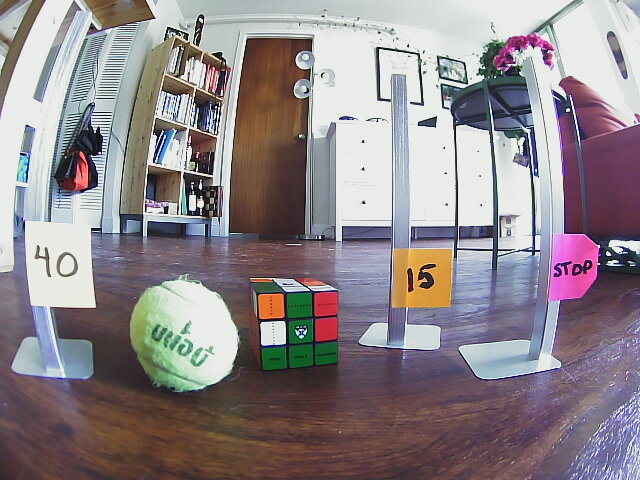15: (392, 249, 451, 306)
40: (25, 222, 90, 306)
ball: (132, 278, 238, 390)
cube: (248, 277, 344, 368)
stop: (552, 232, 595, 296)
